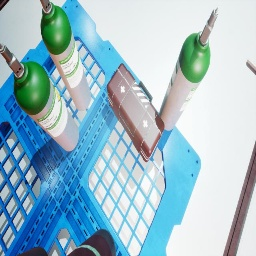0: (0, 43, 79, 152), (159, 5, 219, 131), (40, 0, 91, 111)
FirstAidBox ,: (107, 63, 164, 162)
NitrogenTank ,: (67, 229, 116, 256), (16, 247, 48, 256)
